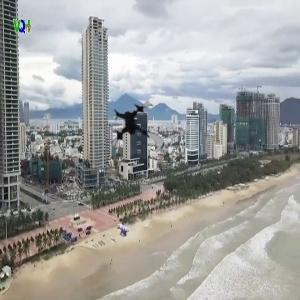drone: (106, 99, 170, 163)
